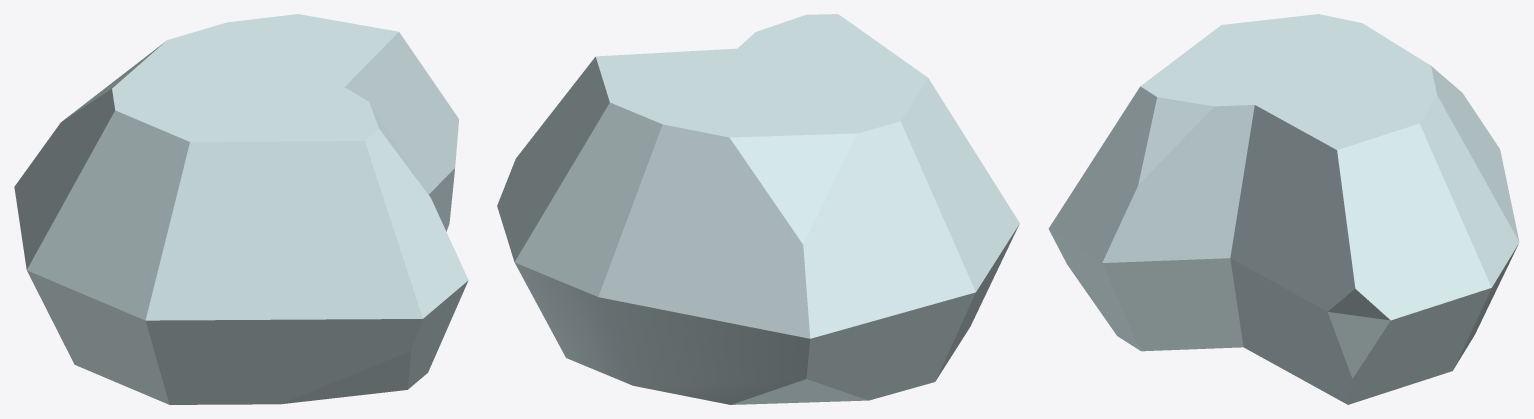
The model's file is stone_largeD.glb.
3 renders of one model, left to right at view 1: azimuth 30°, elevation 25°; view 2: azimuth 150°, elevation 25°; view 3: azimuth 270°, elevation 25°, orthographic. The views are drawn at different scales.
Parts seen in each view (by area): view 1: stone_largeD; view 2: stone_largeD; view 3: stone_largeD.
Boxes of the visible parts, <box> form: stone_largeD: <box>14,14,468,404</box>; stone_largeD: <box>497,14,1019,404</box>; stone_largeD: <box>1048,14,1519,404</box>.
Size of the model in its own units: 1.07 by 0.5683 by 1.03.
Materials: 1 (1 with a texture image).
